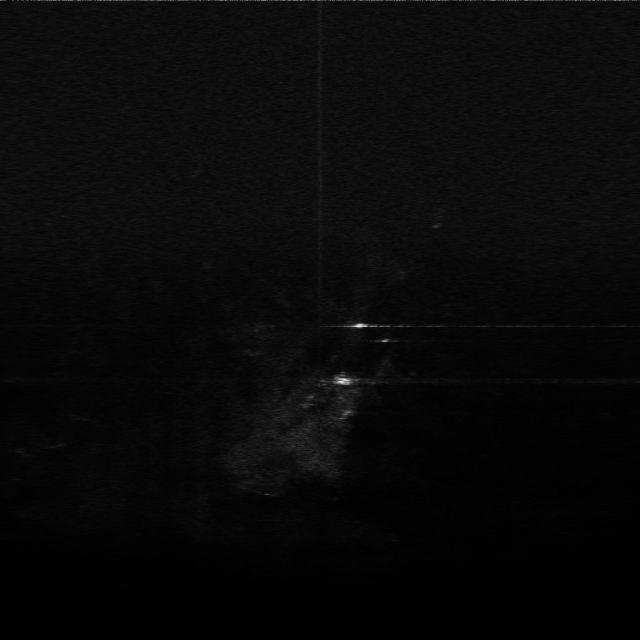rov: (332, 372, 358, 389)
